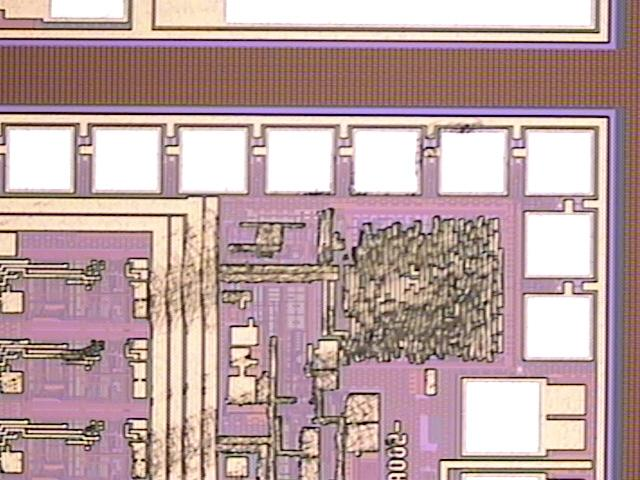SCRATCH: (1, 205, 503, 480)
